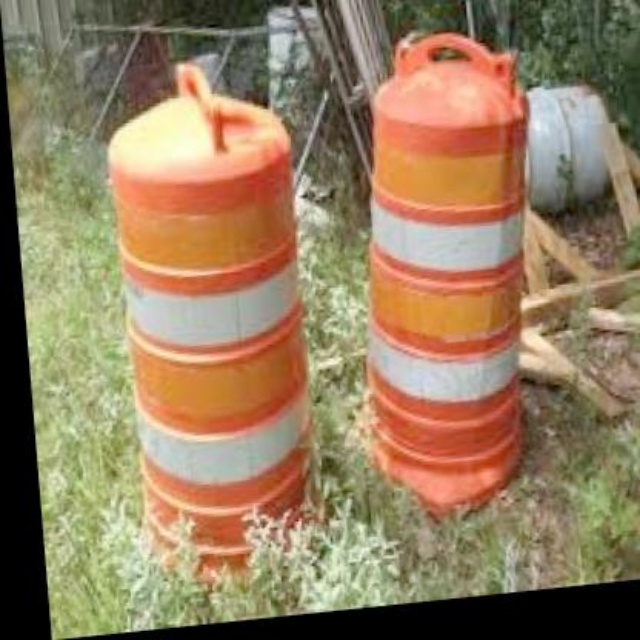obstacle: (82, 51, 349, 618), (332, 48, 537, 521)
